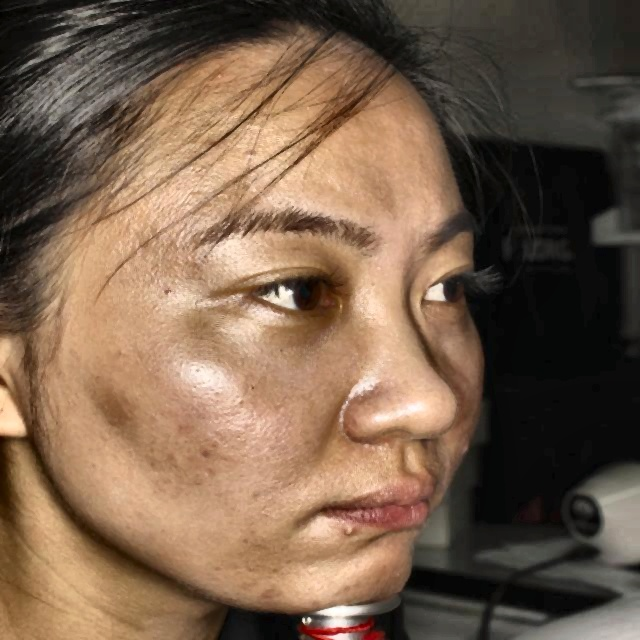comedone: (336, 520, 364, 544)
